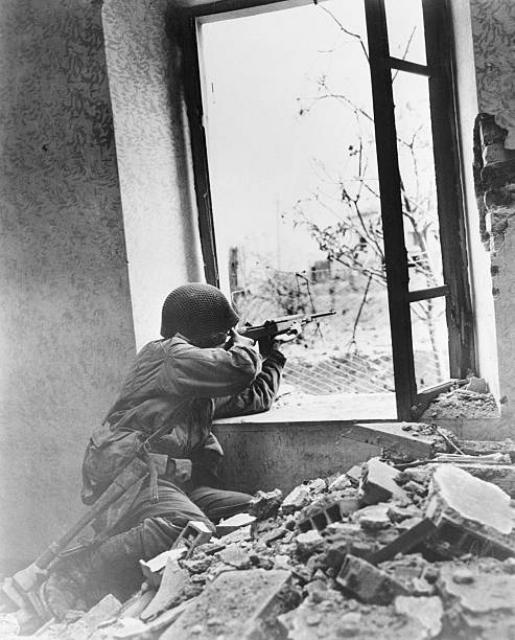other: (83, 279, 276, 557)
